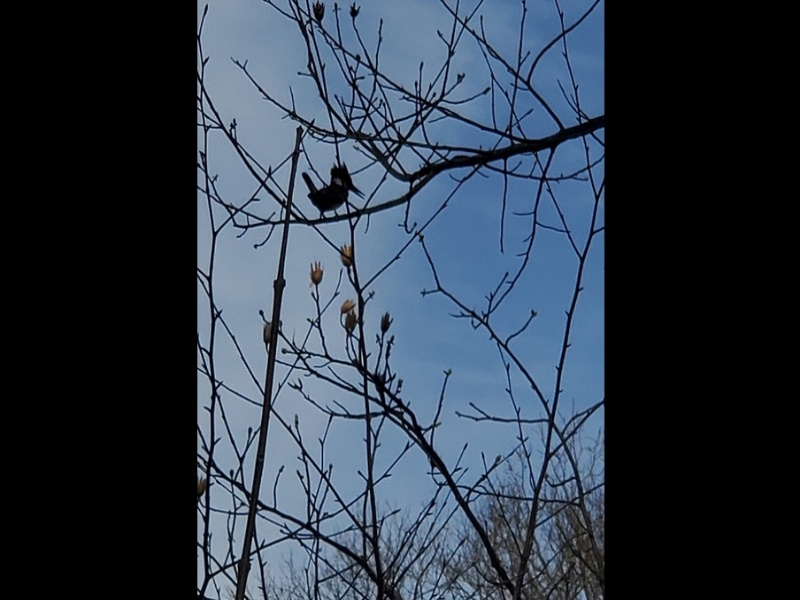kingfisher: (303, 162, 367, 222)
